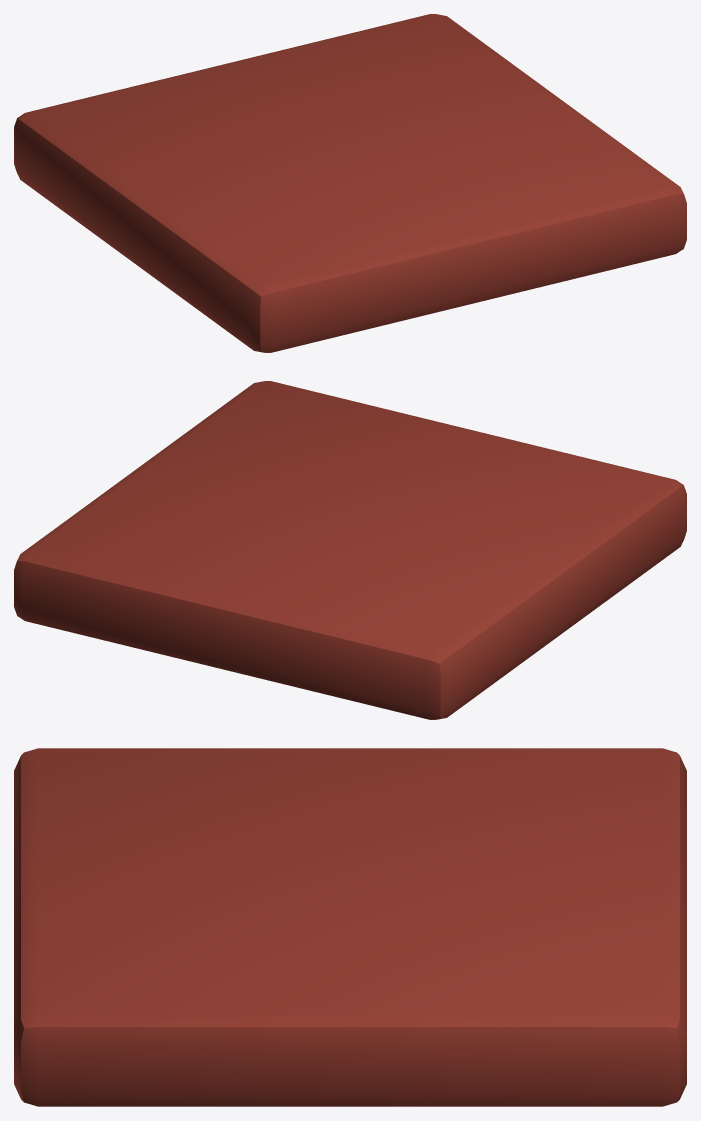
File: SymbolSquare.fbx
3 views of the same model, one above another, from view 1: azimuth 30°, elevation 25°; view 2: azimuth 150°, elevation 25°; view 3: azimuth 270°, elevation 25° (orthographic). The views are drawn at different scales.
Visible parts, largest first — view 1: SquareSymbol; view 2: SquareSymbol; view 3: SquareSymbol.
Part boxes in pixels (left/top/right/bottom): SquareSymbol: left=14, top=14, right=686, bottom=352; SquareSymbol: left=14, top=381, right=686, bottom=719; SquareSymbol: left=14, top=748, right=686, bottom=1106.
Size of the model in its own units: 10 by 1.52 by 10.
